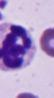N: (0, 24, 36, 72)
